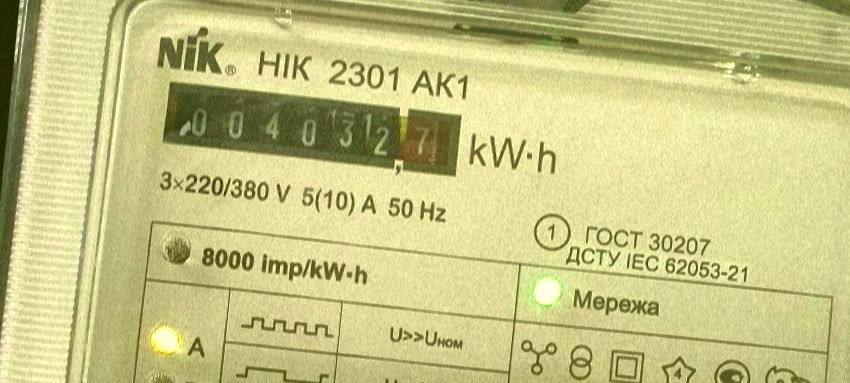0: (189, 104, 212, 139), (225, 108, 248, 142), (299, 115, 321, 149)
2: (372, 123, 394, 159)
3: (337, 116, 358, 150)
4: (262, 108, 285, 146)
7: (414, 124, 434, 159)
screen: (152, 73, 473, 190)
